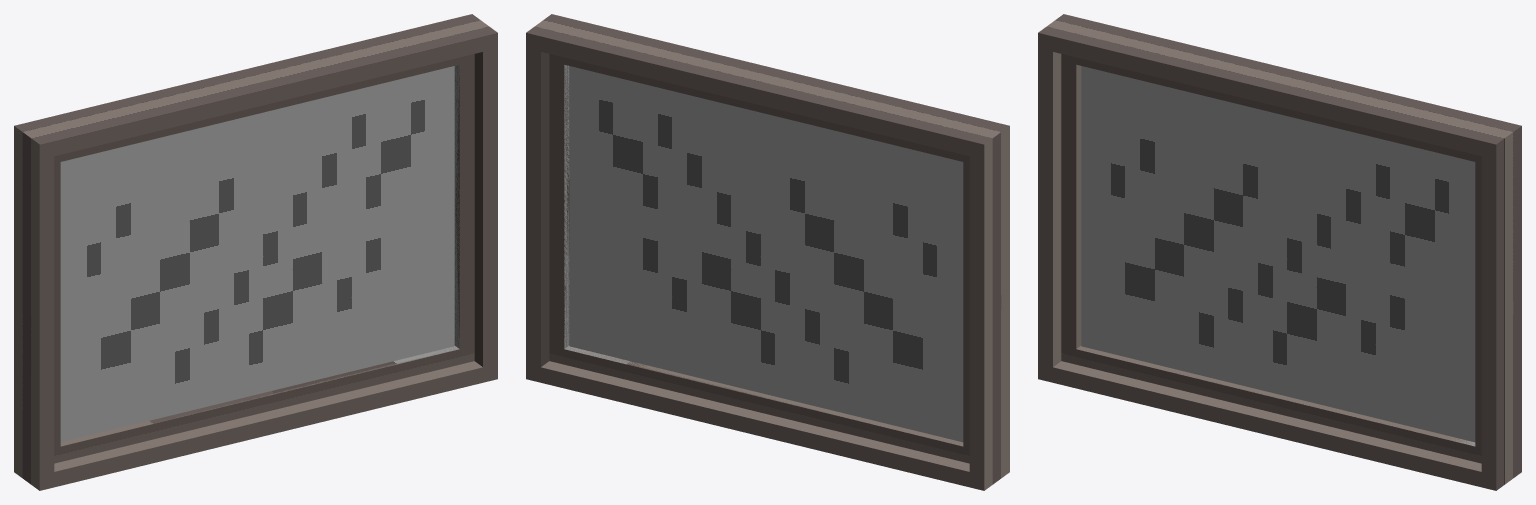
The model's file is window_438x03.obj.
3 views of the same model, side by side, from view 1: azimuth 30°, elevation 25°; view 2: azimuth 150°, elevation 25°; view 3: azimuth 330°, elevation 25° (orthographic).
Parts seen in each view (by area): view 1: Frame.001; view 2: Frame.001; view 3: Frame.001.
Part boxes in pixels (left/top/right/bottom): Frame.001: left=14, top=14, right=497, bottom=490; Frame.001: left=526, top=14, right=1009, bottom=490; Frame.001: left=1038, top=14, right=1521, bottom=490.
Bounding box in the file's own units: 3.88 × 2.8 × 0.375.
